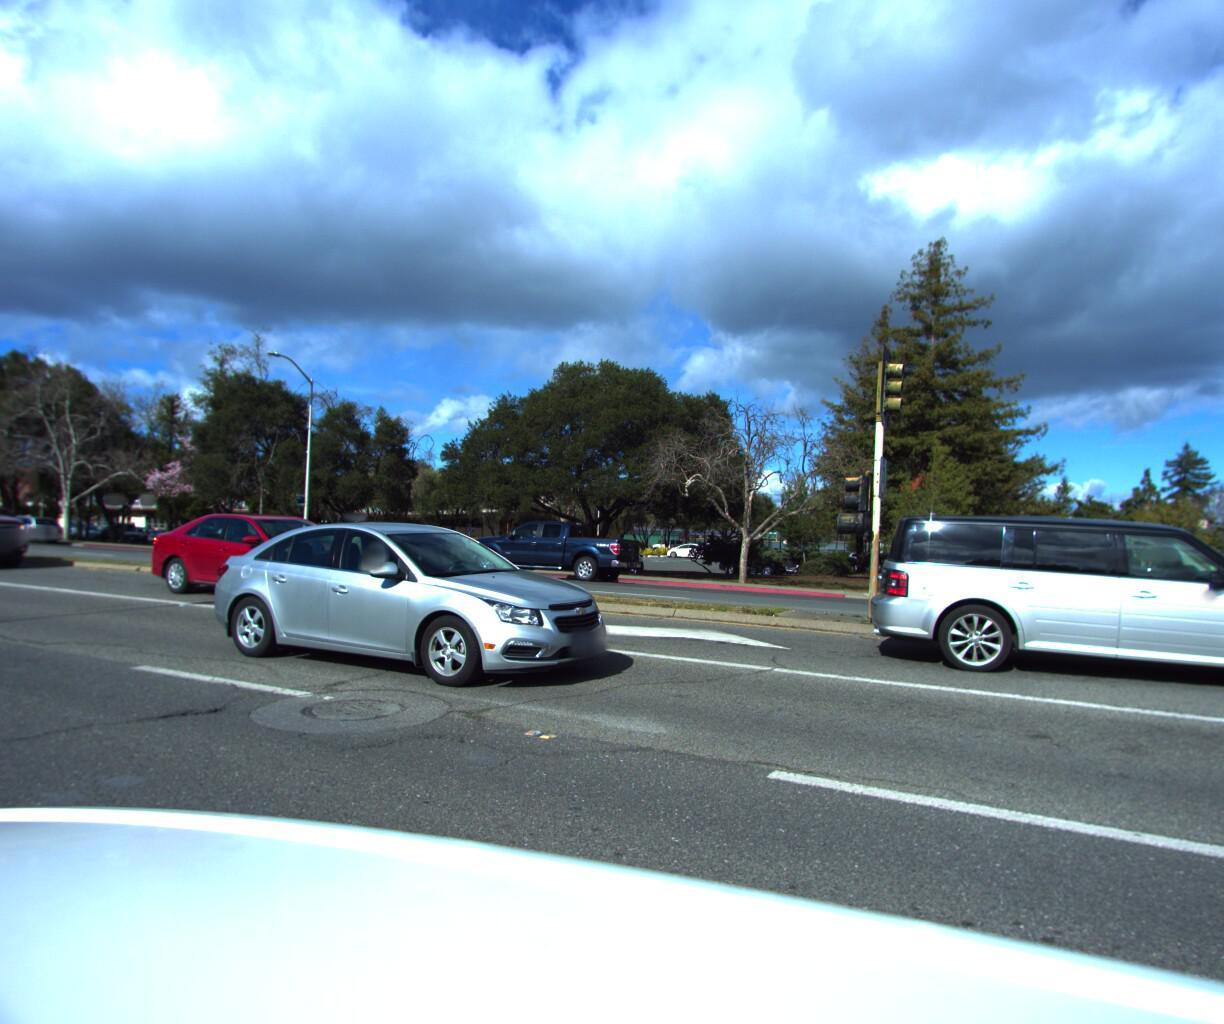car: (202, 521, 653, 710), (862, 506, 1224, 711), (138, 515, 401, 616), (456, 522, 646, 590), (0, 492, 45, 584), (0, 519, 71, 552)
